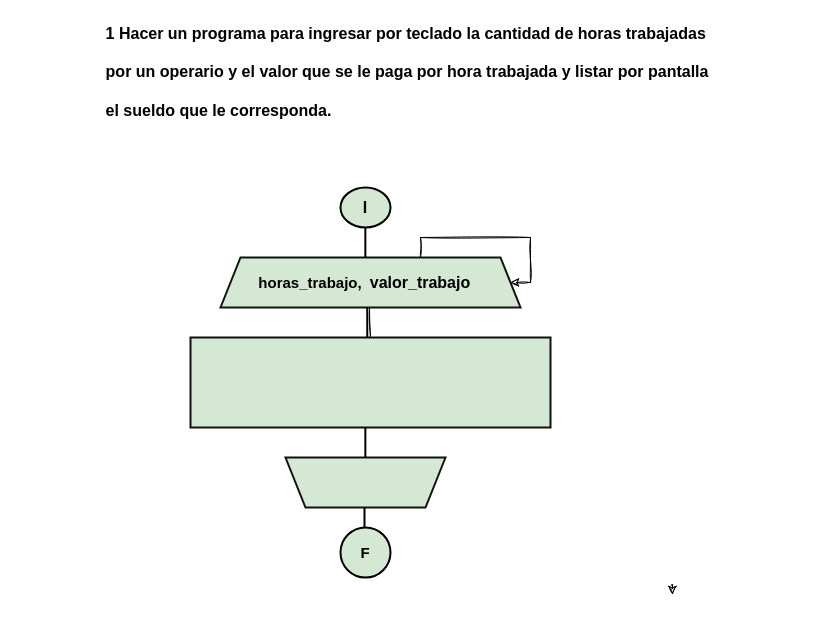
Image size: 814x620. Some labels were removed from this diagram. Here are the shapes that lost their labels. From the top down, the box of each, then its label:
(189, 336, 551, 428): sueldo = valor_trabajo * horas_trabajo
(284, 456, 446, 508): sueldo
